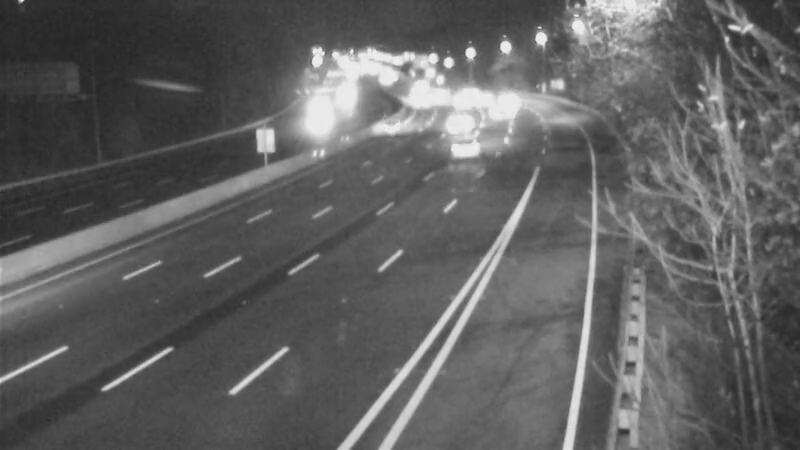vehicle: (471, 87, 521, 137), (426, 99, 476, 149), (360, 104, 410, 154), (442, 119, 492, 169)
